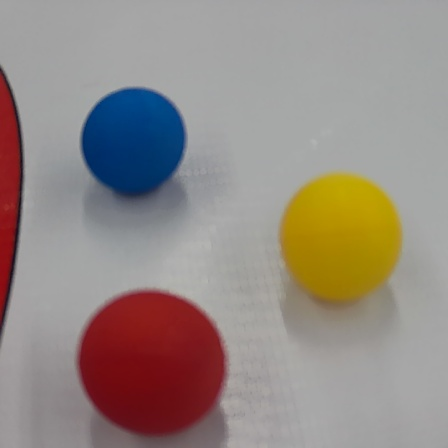blue: (77, 83, 192, 197)
red: (75, 288, 226, 437)
red_base: (0, 63, 24, 340)
yellow: (276, 170, 406, 307)
